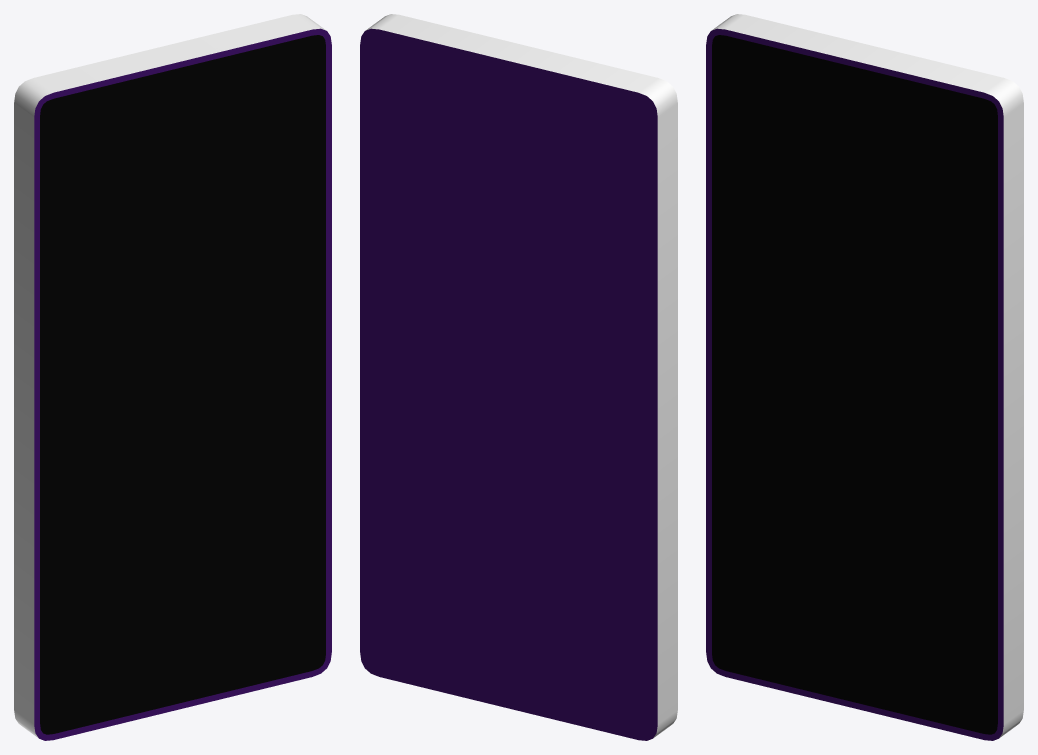
File: phone.fbx
3 renders of one model, left to right at view 1: azimuth 30°, elevation 25°; view 2: azimuth 150°, elevation 25°; view 3: azimuth 330°, elevation 25°, orthographic.
Parts seen in each view (by area): view 1: phone; view 2: phone; view 3: phone.
Boxes of the visible parts, x1=… form: phone: x1=14, y1=14, x2=331, y2=740; phone: x1=360, y1=14, x2=677, y2=740; phone: x1=706, y1=14, x2=1023, y2=740.
Size of the model in its own units: 3.03 by 6.3 by 0.3543.
